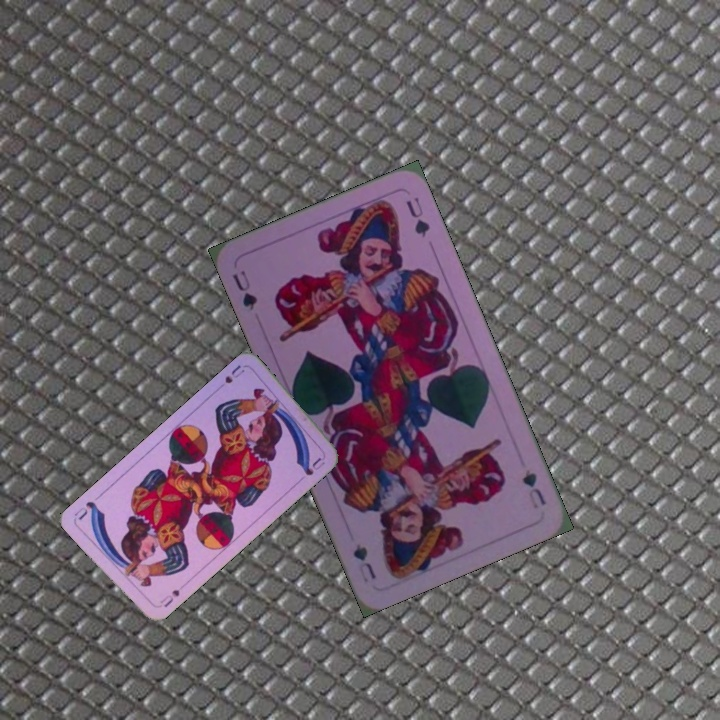GU: (228, 266, 260, 313), (518, 465, 549, 512)
SU: (152, 585, 182, 611), (220, 361, 247, 388)
